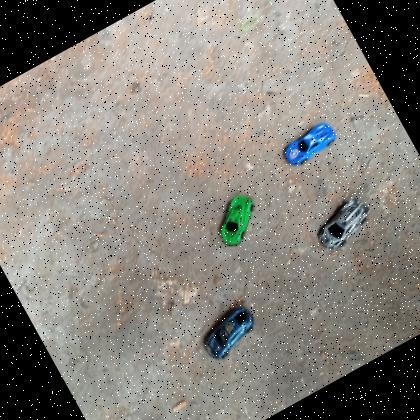Car: (308, 192, 378, 253), (195, 304, 264, 363), (278, 116, 342, 172), (207, 191, 267, 250)
